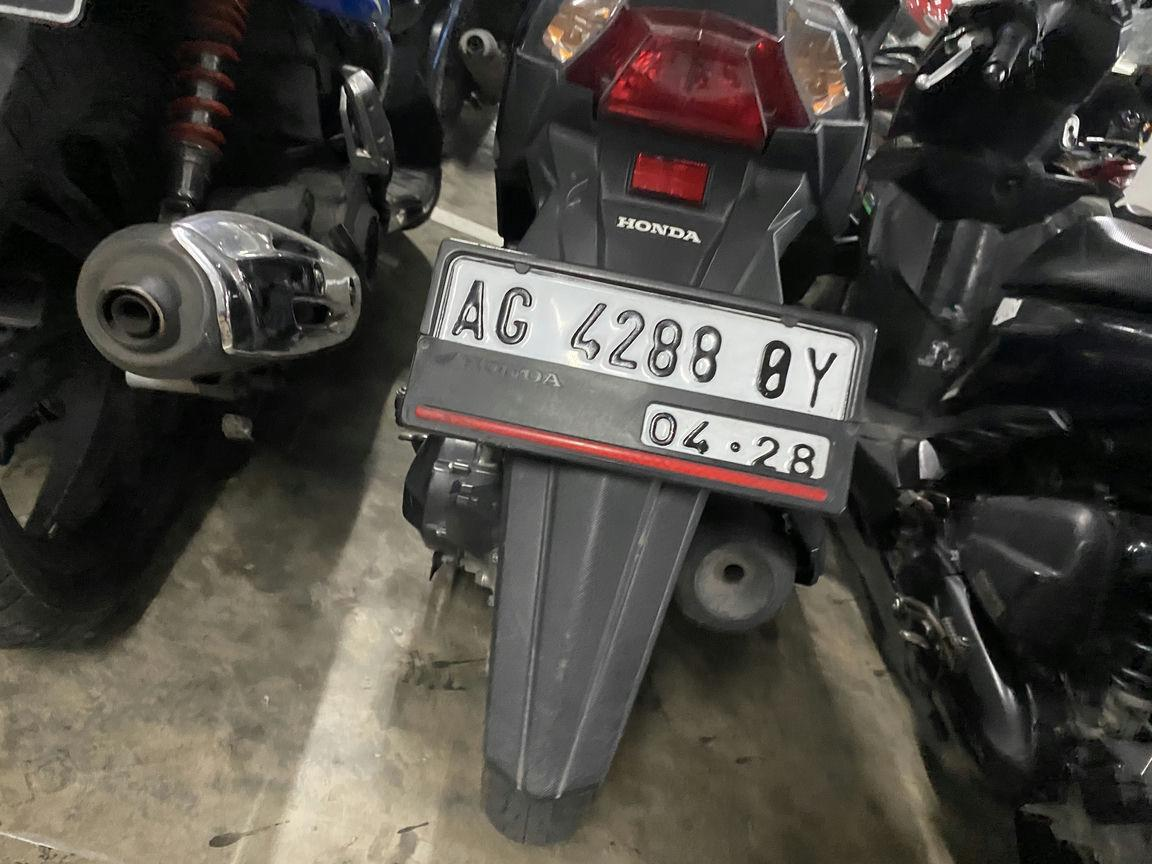plat: (400, 243, 873, 513)
